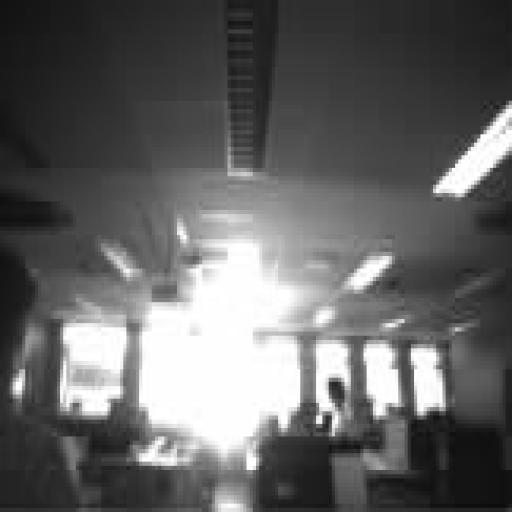human: (0, 244, 82, 511), (329, 378, 357, 436)
